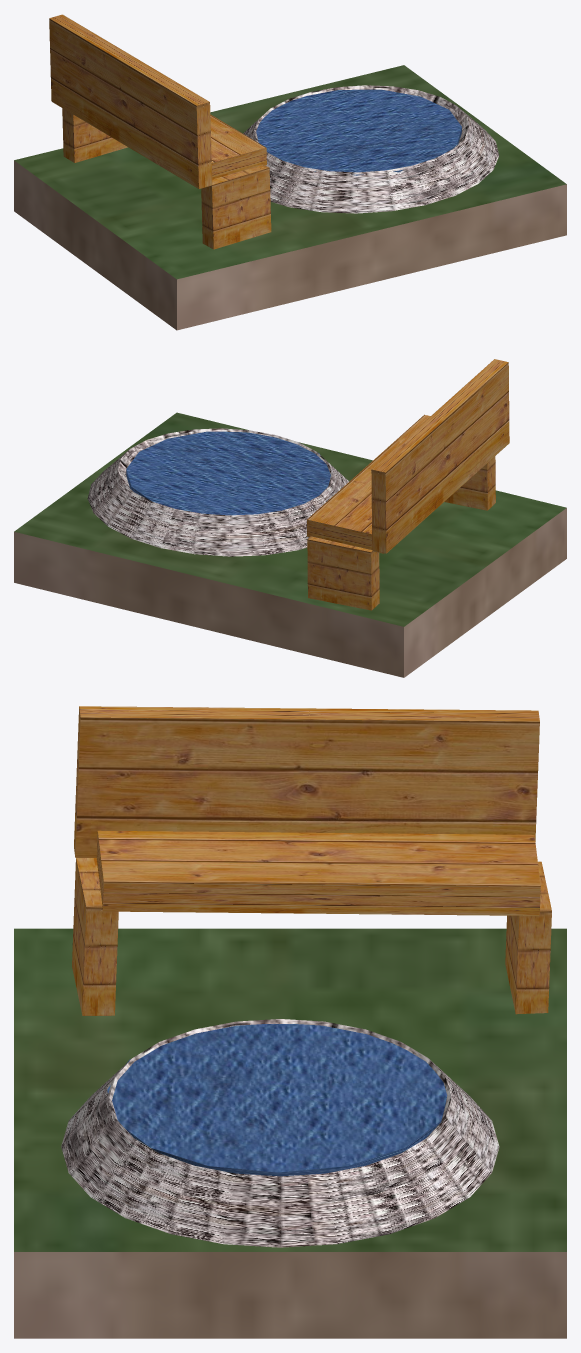
Rendered from printable pond.dae.
The picture shows the model from 3 angles, top to bottom: view 1: azimuth 30°, elevation 25°; view 2: azimuth 150°, elevation 25°; view 3: azimuth 270°, elevation 25°; orthographic projection. The views are drawn at different scales.
Visible parts, largest first — view 1: prim2, prim0, prim4, prim5, prim3, prim1, prim6; view 2: prim2, prim4, prim0, prim5, prim6, prim1, prim3; view 3: prim2, prim0, prim4, prim5, prim1, prim3, prim6.
Boxes of the visible parts, x1=… form: prim2: x1=14, y1=65, x2=566, y2=330; prim0: x1=49, y1=14, x2=212, y2=188; prim4: x1=256, y1=89, x2=461, y2=175; prim5: x1=243, y1=85, x2=499, y2=213; prim3: x1=201, y1=165, x2=271, y2=249; prim1: x1=210, y1=114, x2=266, y2=179; prim6: x1=62, y1=108, x2=127, y2=162; prim2: x1=14, y1=412, x2=566, y2=677; prim4: x1=126, y1=431, x2=330, y2=515; prim0: x1=371, y1=359, x2=509, y2=553; prim5: x1=87, y1=428, x2=349, y2=556; prim6: x1=307, y1=536, x2=379, y2=610; prim1: x1=307, y1=414, x2=430, y2=553; prim3: x1=444, y1=456, x2=495, y2=510; prim2: x1=14, y1=928, x2=566, y2=1338; prim0: x1=74, y1=706, x2=539, y2=857; prim4: x1=107, y1=1024, x2=447, y2=1176; prim5: x1=61, y1=1019, x2=499, y2=1247; prim1: x1=96, y1=830, x2=540, y2=915; prim3: x1=72, y1=858, x2=118, y2=1015; prim6: x1=505, y1=861, x2=551, y2=1014.
Bounding box in the file's own units: 4 × 2.89 × 1.97.
5 materials, 5 textured.
